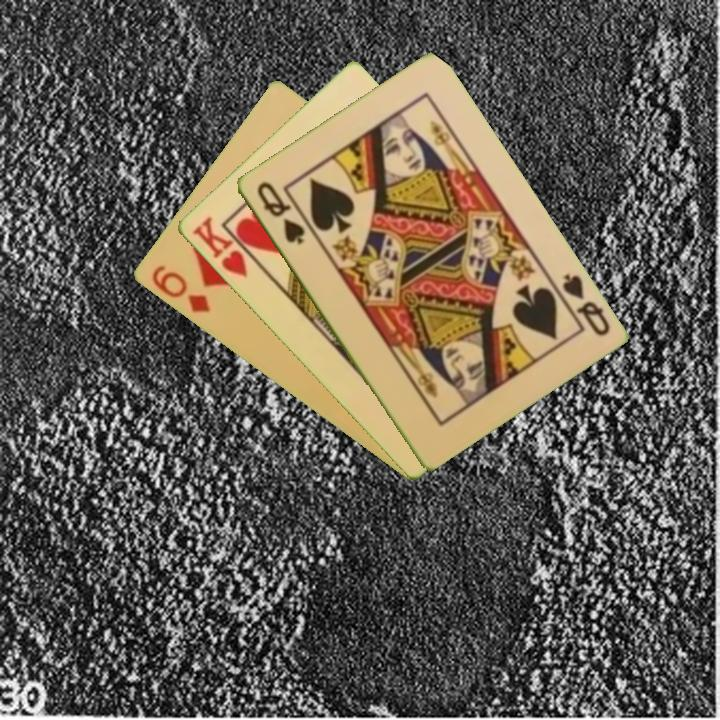6d: (147, 261, 213, 316)
Kh: (188, 213, 263, 281)
Qs: (549, 269, 613, 339), (252, 178, 308, 247)
